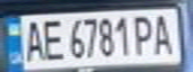1: (112, 14, 133, 56)
6: (63, 16, 87, 60)
7: (81, 15, 100, 58)
8: (97, 15, 118, 57)
A: (148, 11, 178, 56), (18, 17, 45, 63)
E: (39, 16, 66, 62)
P: (130, 11, 157, 56)
